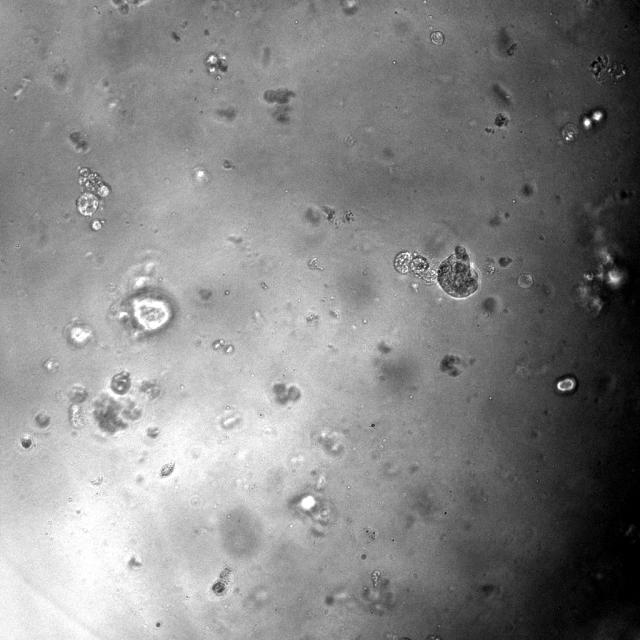organoid: (574, 205, 630, 314), (109, 262, 177, 339), (92, 369, 160, 433), (394, 247, 479, 297), (76, 167, 110, 217), (590, 55, 628, 83), (209, 564, 236, 601), (68, 383, 88, 430), (64, 318, 93, 348), (272, 382, 301, 405), (204, 51, 228, 74), (554, 374, 578, 395), (264, 88, 294, 104), (440, 355, 461, 376), (69, 132, 89, 153), (561, 123, 579, 143), (34, 410, 51, 428), (495, 112, 509, 128), (483, 297, 497, 313), (518, 274, 533, 288), (161, 462, 174, 477), (146, 424, 159, 438), (430, 31, 444, 44), (20, 435, 32, 448), (498, 256, 512, 267), (483, 265, 497, 276)
